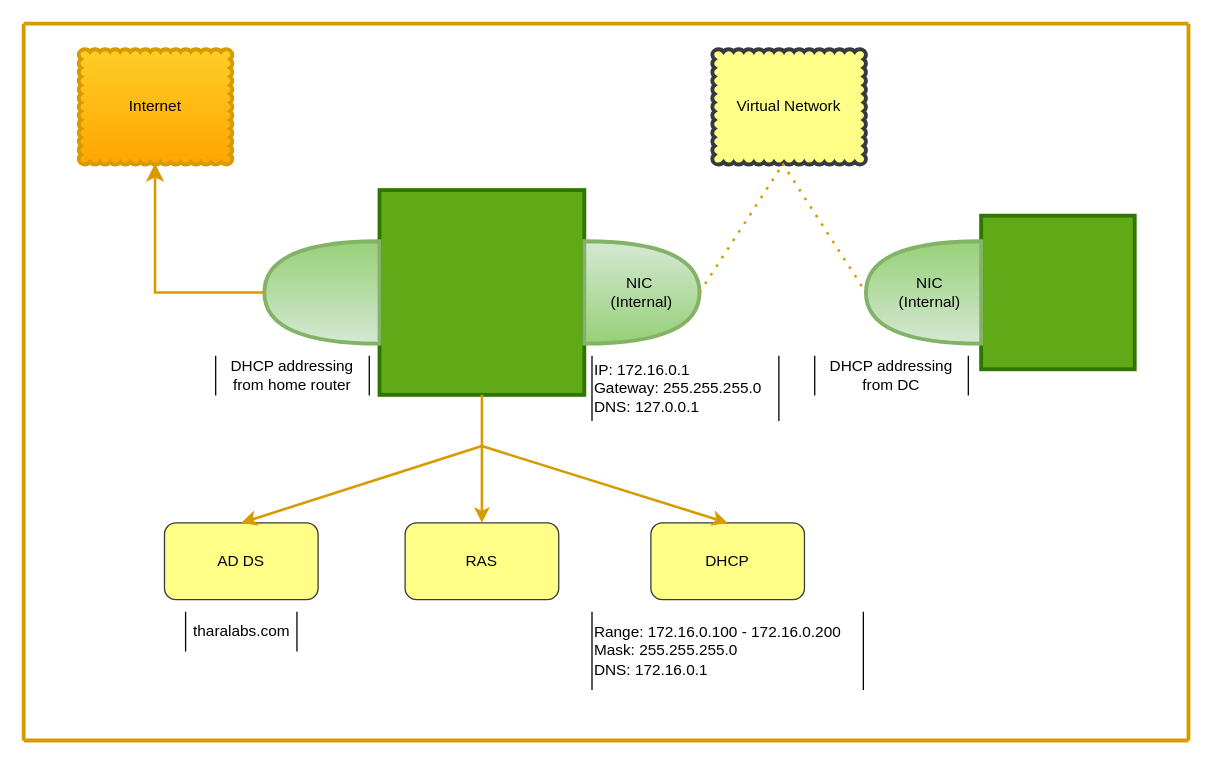
Image size: 1213x765. Some labels were removed from this diagram. Here are the shapes that lost their labels. From the top down, the centre of each, then its label:
At (321,292): "NIC (NAT)".
At (481,292): "DC (Windows 2022)".
At (1057,292): "Client (Windows 10)".
